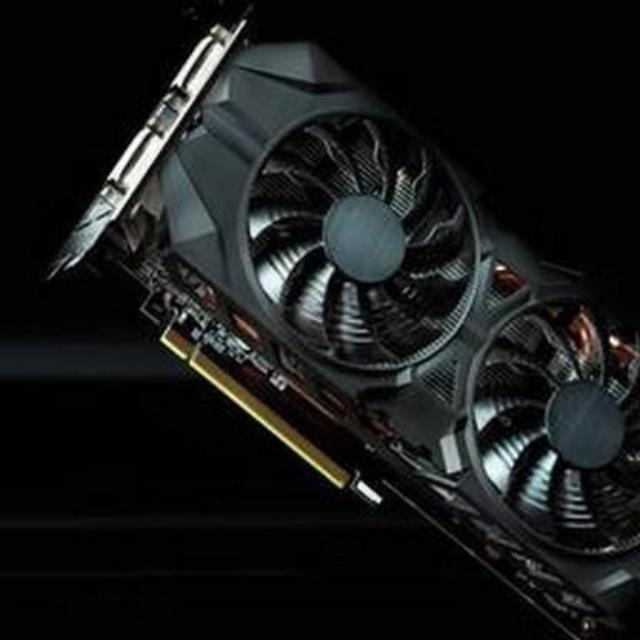GPU: (83, 26, 640, 640)
